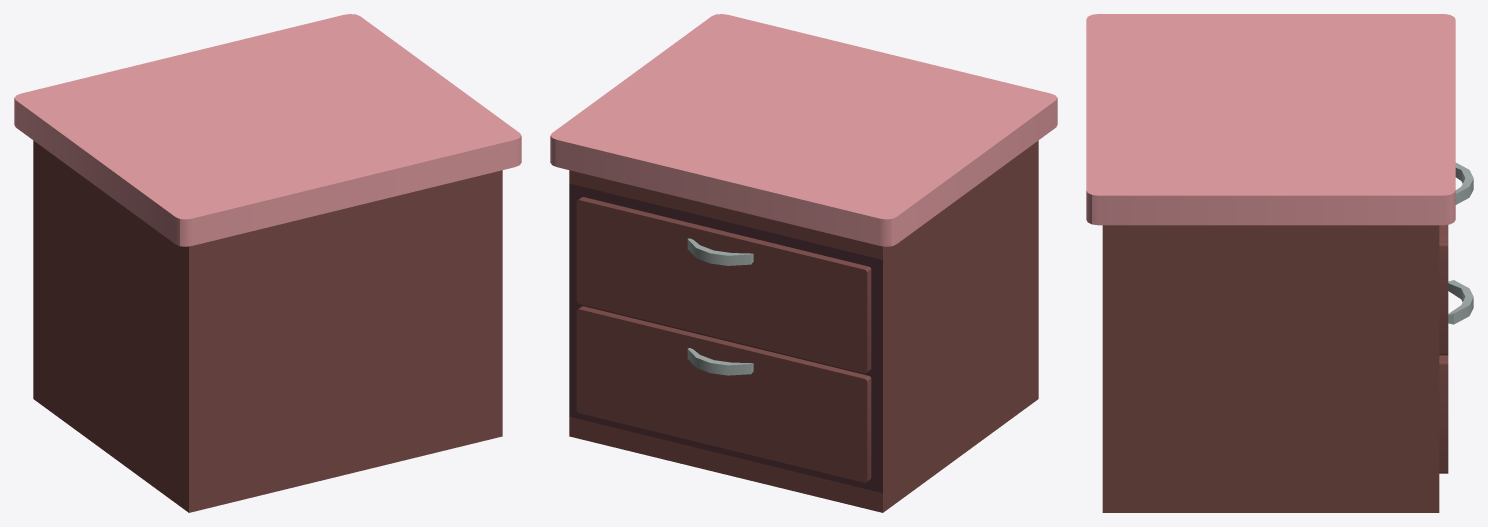
File: BancadaRosa.fbx
3 renders of one model, left to right at view 1: azimuth 30°, elevation 25°; view 2: azimuth 150°, elevation 25°; view 3: azimuth 270°, elevation 25°, orthographic. The views are drawn at different scales.
Parts seen in each view (by area): view 1: BancadaRosa; view 2: BancadaRosa, Gavetas2, MetalGaveta2; view 3: BancadaRosa, Gavetas2, MetalGaveta2.
Boxes of the visible parts, left/top/right/bottom form: BancadaRosa: left=14, top=14, right=521, bottom=512; BancadaRosa: left=550, top=14, right=1057, bottom=512; Gavetas2: left=576, top=197, right=871, bottom=482; MetalGaveta2: left=687, top=238, right=753, bottom=375; BancadaRosa: left=1086, top=14, right=1455, bottom=512; Gavetas2: left=1439, top=224, right=1448, bottom=473; MetalGaveta2: left=1448, top=162, right=1473, bottom=324.
Bounding box in the file's own units: 1.92 × 1.61 × 1.73.
